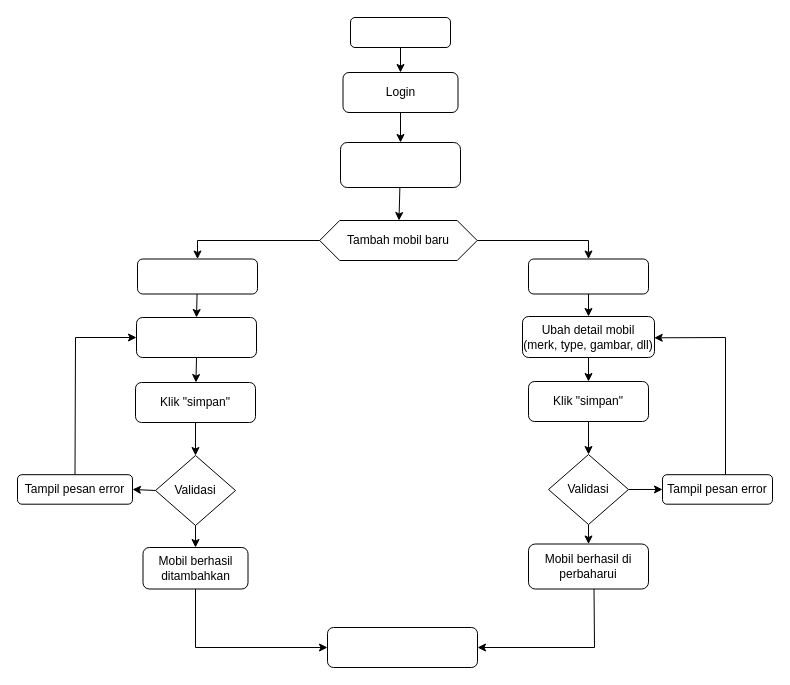
Image size: 790x685. Some labels were removed from this diagram. Each missing label, with the box of its shape:
Klik "new car": (136, 258, 258, 294)
Klik tombol "edit": (528, 258, 648, 294)
Masuk ke bagian "mobil saya": (340, 142, 460, 188)
Mengisi form (merk, type, gambar, dll): (136, 316, 256, 358)
Mulai: (350, 16, 450, 48)
Tampil pesan konfirmasi: (326, 626, 478, 668)
